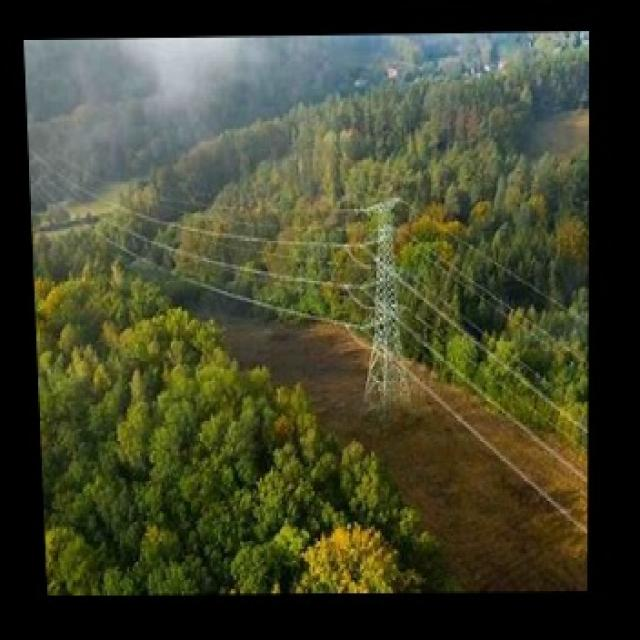utility poles: (345, 172, 436, 412)
